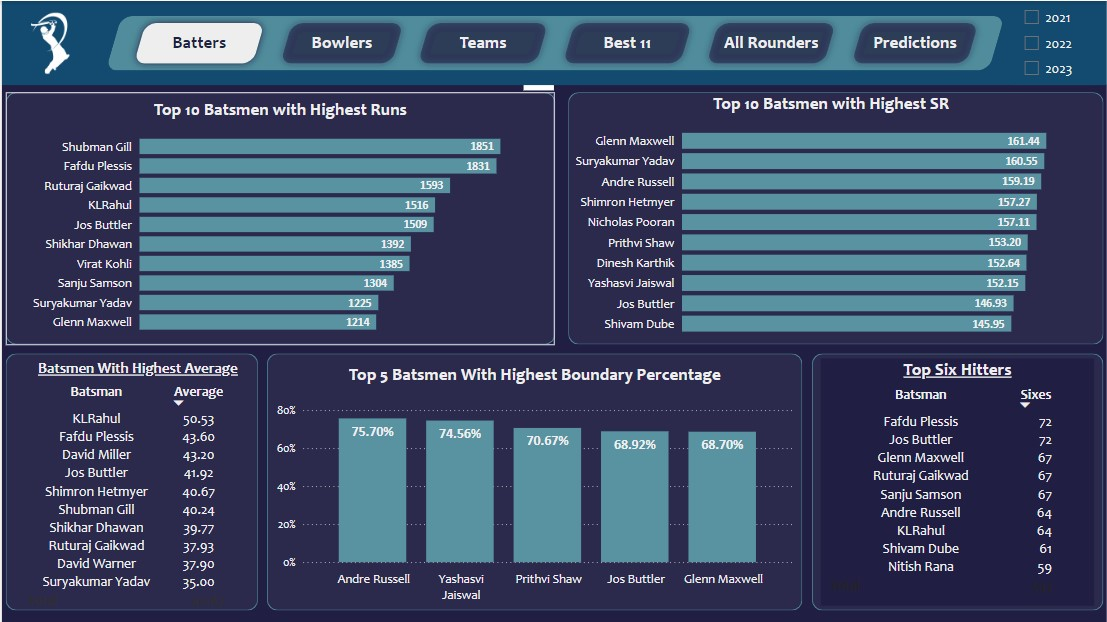

The page's visual inventory and layout, read from the dashboard file:
{"tool":"powerbi","page":{"name":"Batting Analysis","canvas":[1280,720],"ordinal":0},"visuals":[{"type":"shape","box":[0,97.4,1280.3,623],"z":0},{"type":"clusteredBarChart","title":"Top 10 Batsmen with Highest Runs","fields":{"Category":["dim_players.name"],"Y":["Key_Measures.Total Runs"]},"box":[27.4,112.5,590.1,285.4],"z":1000},{"type":"shape","box":[4.1,105.7,636.7,292.3],"z":2000},{"type":"shape","box":[0,0,1280.3,97.4],"z":3000},{"type":"shape","box":[120.8,17.8,1041.5,63.1],"z":4000},{"type":"actionButton","box":[145.5,17.8,167.4,63.1],"z":5000},{"type":"actionButton","box":[314.2,17.8,159.2,63.1],"z":6000},{"type":"actionButton","box":[473.4,17.8,167.4,63.1],"z":7000},{"type":"actionButton","box":[642.2,17.8,166,63.1],"z":8000},{"type":"actionButton","box":[808.2,17.8,166,63.1],"z":9000},{"type":"actionButton","box":[975.6,17.8,163.3,63.1],"z":10000},{"type":"image","box":[13.7,8.2,85.1,81],"z":11000},{"type":"slicer","fields":{"Values":["dim_match_summary.matchDate.Variation.Date Hierarchy.Year"]},"box":[1171.9,0,93.3,97.4],"z":12000},{"type":"clusteredBarChart","title":"Top 10 Batsmen with Highest SR","fields":{"Category":["fact_batting_summary.batsmanName"],"Y":["Key_Measures.Batting SR"]},"box":[655.9,105.7,609.3,292.3],"z":13000},{"type":"shape","box":[655.9,105.7,620.2,292.3],"z":14000},{"type":"tableEx","title":"Batsmen With Highest Average","fields":{"Values":["fact_batting_summary.batsmanName","Key_Measures.Batting Avg"]},"box":[19.2,414.4,277.2,296.4],"z":15000},{"type":"shape","box":[938.6,408.9,337.6,297.8],"z":16000},{"type":"columnChart","title":"Top 5 Batsmen With Highest Boundary Percentage","fields":{"Category":["fact_batting_summary.batsmanName"],"Y":["Key_Measures.Boundary %"]},"box":[312.9,419.9,609.3,285.4],"z":17000},{"type":"shape","box":[307.4,408.9,620.2,297.8],"z":18000},{"type":"tableEx","title":"Top Six Hitters","fields":{"Values":["fact_batting_summary.batsmanName","fact_batting_summary.6s"]},"box":[948.2,414.4,317,286.8],"z":19000},{"type":"shape","box":[4.1,408.9,292.3,297.8],"z":20000}]}

Visuals, with their boxes in screenshot pixels (x1, y1, x2, y2), scaled from the page's 1280x720 canvas onto the 1107x622 screenshot:
shape: BBox(0, 84, 1106, 621)
"Top 10 Batsmen with Highest Runs" clusteredBarChart: BBox(24, 97, 534, 344)
shape: BBox(4, 91, 554, 344)
shape: BBox(0, 0, 1106, 84)
shape: BBox(104, 15, 1005, 70)
actionButton: BBox(126, 15, 271, 70)
actionButton: BBox(272, 15, 409, 70)
actionButton: BBox(409, 15, 554, 70)
actionButton: BBox(555, 15, 699, 70)
actionButton: BBox(699, 15, 843, 70)
actionButton: BBox(844, 15, 985, 70)
image: BBox(12, 7, 85, 77)
slicer - dim_match_summary.matchDate.Variation.Date Hierarchy.Year: BBox(1014, 0, 1094, 84)
"Top 10 Batsmen with Highest SR" clusteredBarChart: BBox(567, 91, 1094, 344)
shape: BBox(567, 91, 1104, 344)
"Batsmen With Highest Average" tableEx: BBox(17, 358, 256, 614)
shape: BBox(812, 353, 1104, 611)
"Top 5 Batsmen With Highest Boundary Percentage" columnChart: BBox(271, 363, 798, 609)
shape: BBox(266, 353, 802, 611)
"Top Six Hitters" tableEx: BBox(820, 358, 1094, 606)
shape: BBox(4, 353, 256, 611)
